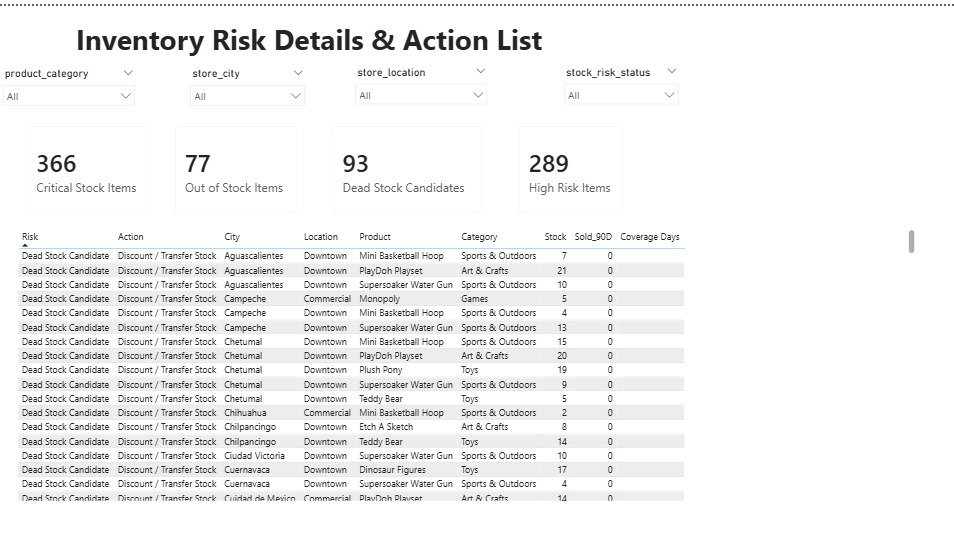

This screenshot's page, from the dashboard's own definition file:
{"tool":"powerbi","page":{"name":"Inventory Risk Details","canvas":[1280,720],"ordinal":4},"visuals":[{"type":"textbox","box":[0,13.3,783.3,91.7],"z":0},{"type":"slicer","fields":{"Values":["vw_stock_risk.product_category"]},"box":[0,76.7,196.7,68.3],"z":1000},{"type":"slicer","fields":{"Values":["vw_stock_risk.store_location"]},"box":[470,75,196.7,70],"z":2000},{"type":"slicer","fields":{"Values":["vw_stock_risk.store_city"]},"box":[250,76.7,173.3,68.3],"z":3000},{"type":"slicer","fields":{"Values":["vw_stock_risk.stock_risk_status"]},"box":[748.3,75,173.3,70],"z":4000},{"type":"cardVisual","fields":{"Data":["vw_stock_risk.Critical Stock Items"]},"box":[24.7,143.3,198.3,150],"z":5000},{"type":"cardVisual","fields":{"Data":["vw_stock_risk.Dead Stock Candidates"]},"box":[433.3,144,233.3,150],"z":6000},{"type":"cardVisual","fields":{"Data":["vw_stock_risk.Out of Stock Items"]},"box":[223.3,144,196.7,150],"z":7000},{"type":"cardVisual","fields":{"Data":["vw_stock_risk.High Risk Items"]},"box":[681.7,144,173.3,150],"z":8000},{"type":"tableEx","fields":{"Values":["vw_stock_risk.stock_risk_status","vw_stock_risk.Recommended Action","vw_stock_risk.store_city","vw_stock_risk.store_location","vw_stock_risk.product_name","vw_stock_risk.product_category","Sum(vw_stock_risk.stock_on_hand)","Sum(vw_stock_risk.units_sold_90d)","Sum(vw_stock_risk.stock_coverage_days)"]},"box":[25,293.3,1206.7,371.7],"z":9000}]}

Visuals, with their boxes in screenshot pixels (x1, y1, x2, y2), scaled from the page's 1280x720 canvas onto the 954x546 screenshot:
textbox: 0, 10, 584, 80
slicer - vw_stock_risk.product_category: 0, 58, 147, 110
slicer - vw_stock_risk.store_location: 350, 57, 497, 110
slicer - vw_stock_risk.store_city: 186, 58, 315, 110
slicer - vw_stock_risk.stock_risk_status: 558, 57, 687, 110
cardVisual - vw_stock_risk.Critical Stock Items: 18, 109, 166, 222
cardVisual - vw_stock_risk.Dead Stock Candidates: 323, 109, 497, 223
cardVisual - vw_stock_risk.Out of Stock Items: 166, 109, 313, 223
cardVisual - vw_stock_risk.High Risk Items: 508, 109, 637, 223
tableEx - vw_stock_risk.stock_risk_status x vw_stock_risk.Recommended Action: 19, 222, 918, 504
